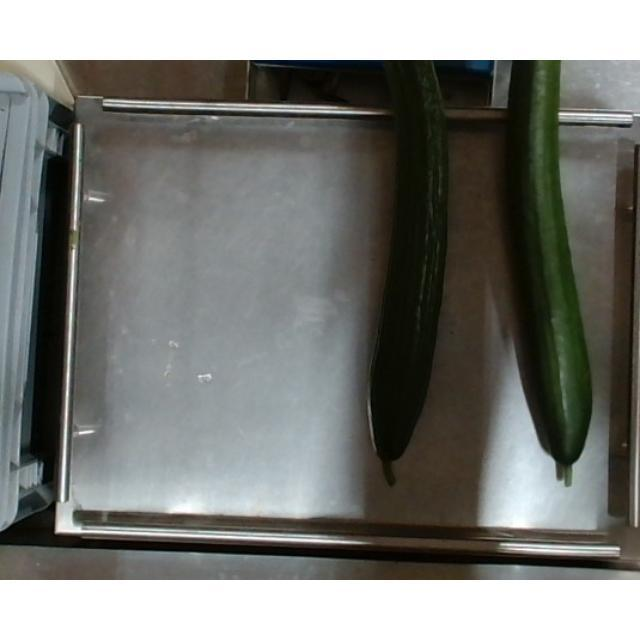cucumber: (498, 60, 598, 490), (365, 60, 459, 484)
